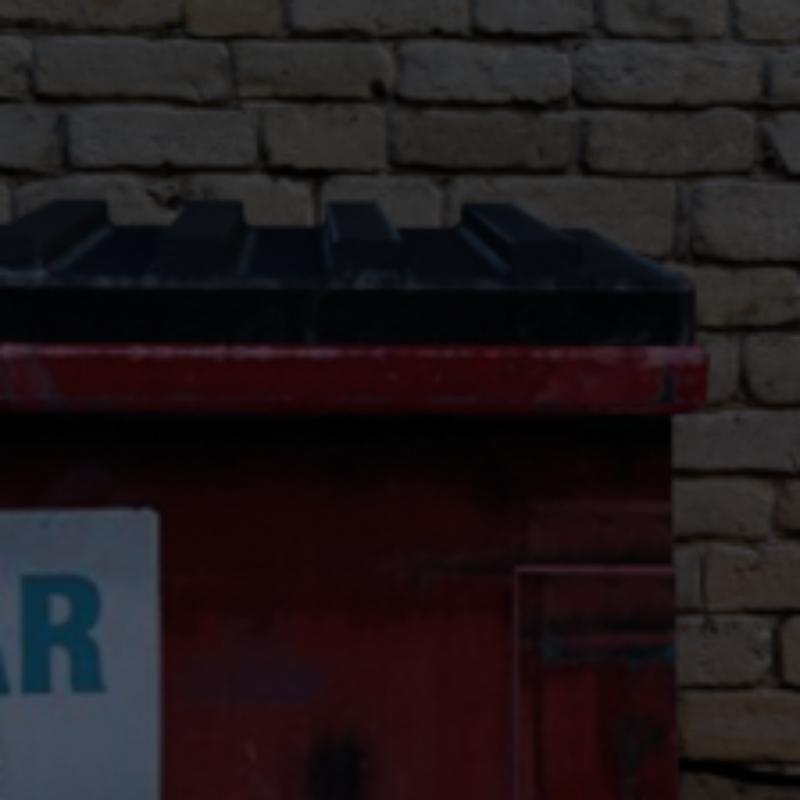crack: (679, 761, 796, 786)
